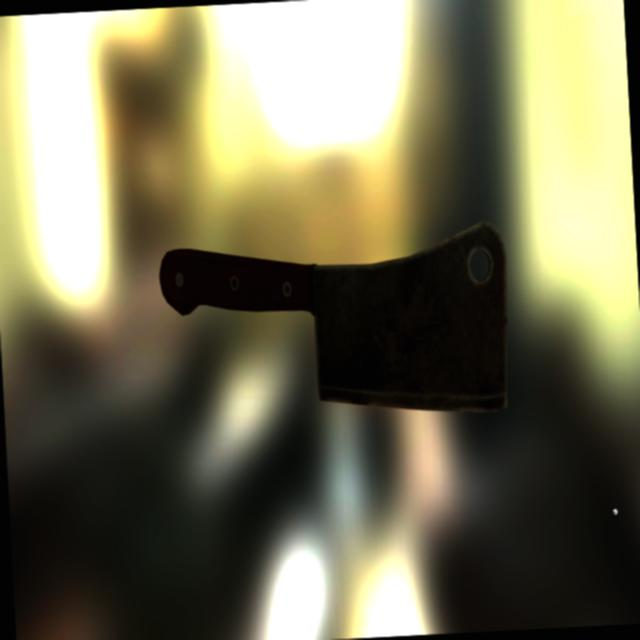cleaver: (164, 223, 512, 426)
